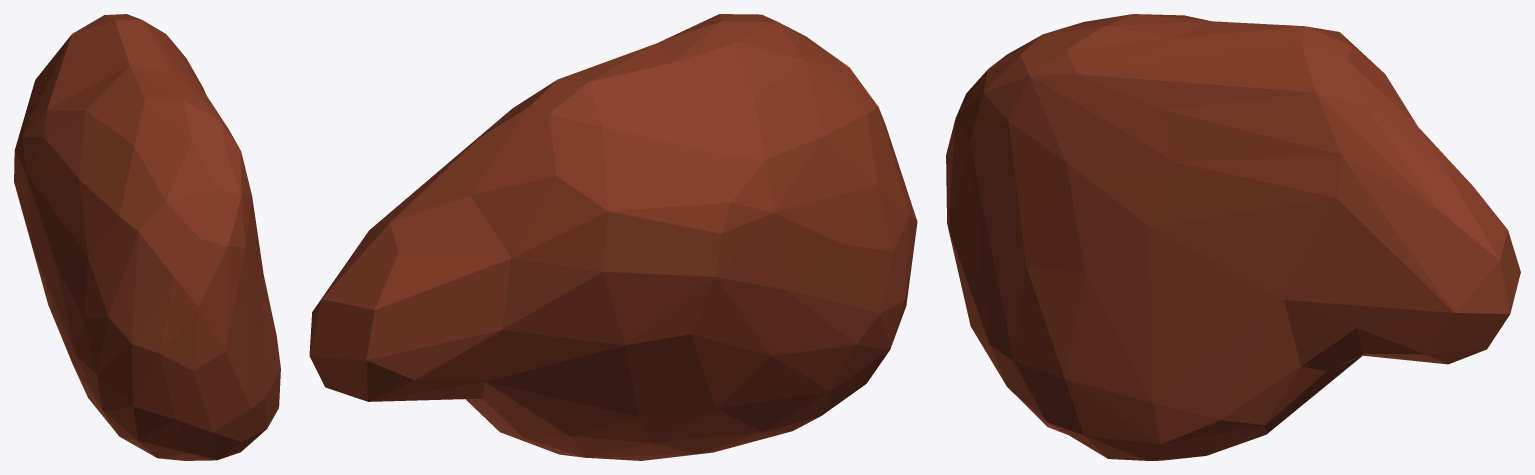
The model's file is agate piece 3.glb.
3 views of the same model, side by side, from view 1: azimuth 30°, elevation 25°; view 2: azimuth 150°, elevation 25°; view 3: azimuth 270°, elevation 25° (orthographic). The views are drawn at different scales.
Parts seen in each view (by area): view 1: Cube; view 2: Cube; view 3: Cube.
Boxes of the visible parts, <box> form: Cube: <box>14,14,280,460</box>; Cube: <box>309,14,917,460</box>; Cube: <box>946,14,1520,460</box>.
Bounding box in the file's own units: 0.029 × 0.0337 × 0.043.
